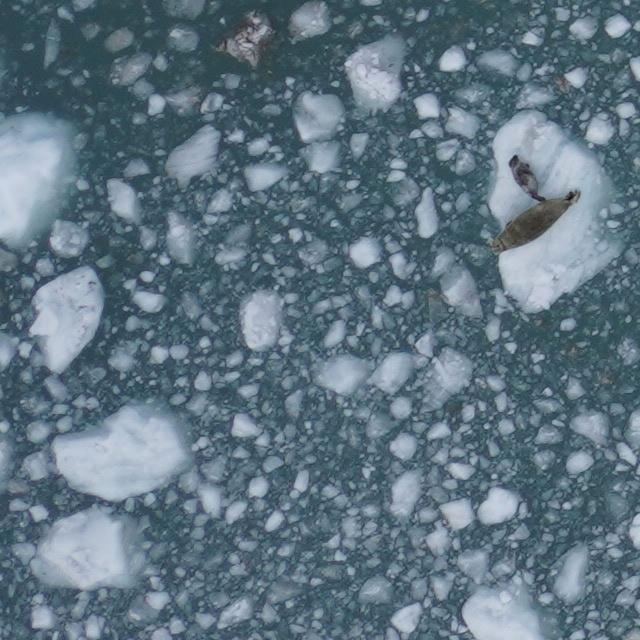seal: (485, 185, 585, 258), (506, 152, 550, 204)
